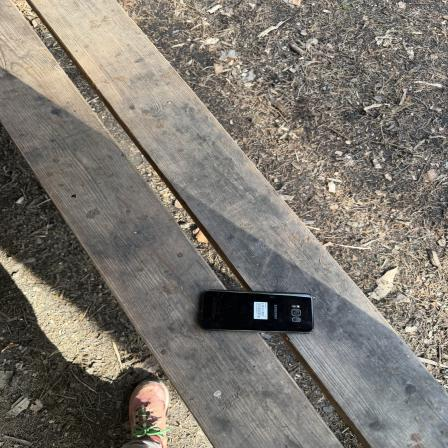phone: (198, 289, 318, 334)
